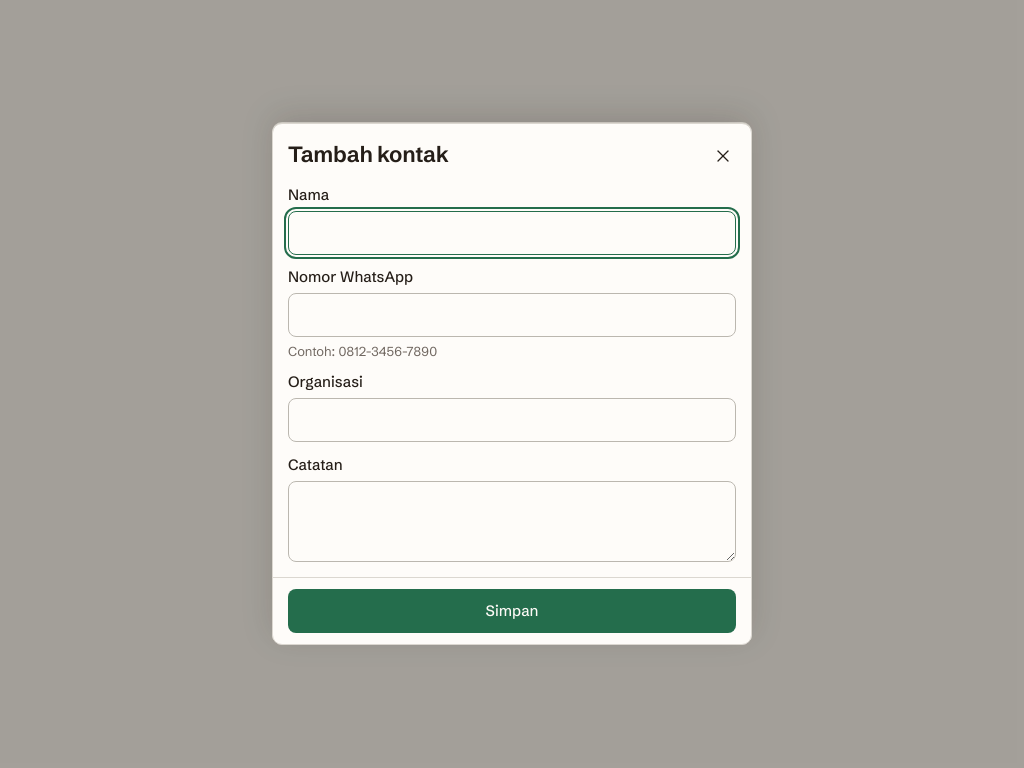
missing nama shows error
Type "081234567890" into the field labelled "Nomor WhatsApp".
click(512, 315); type("081234567890")  # box [288,293,736,337]
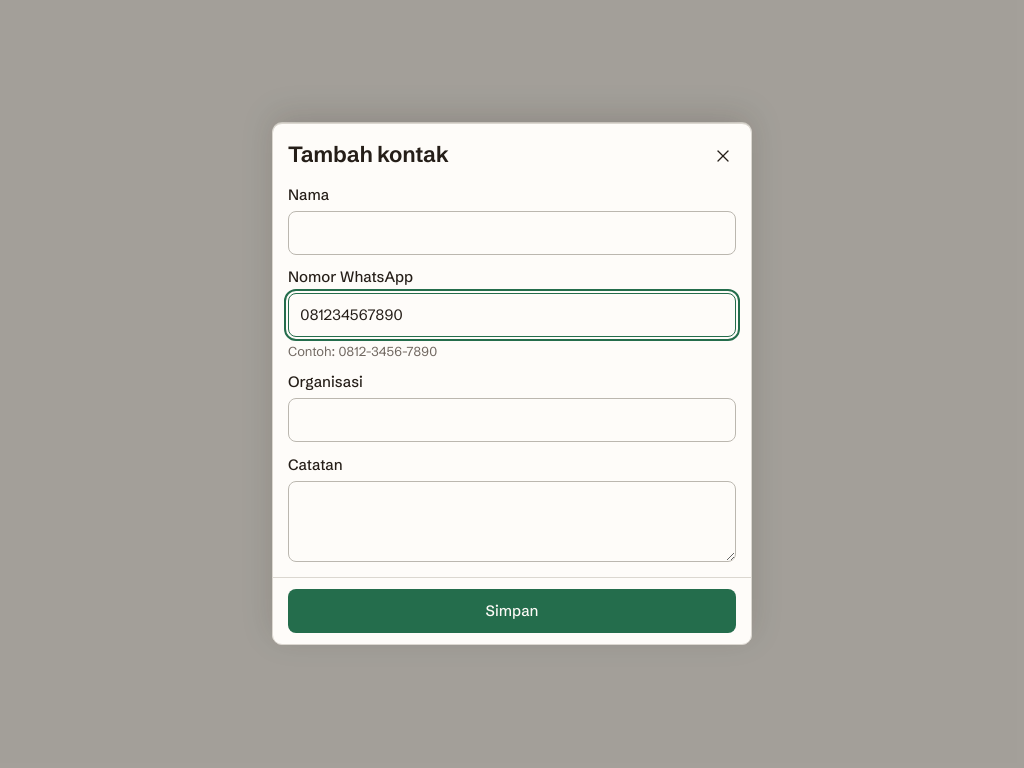
Click the button "Simpan".
click(512, 611)  # box [288,589,736,633]
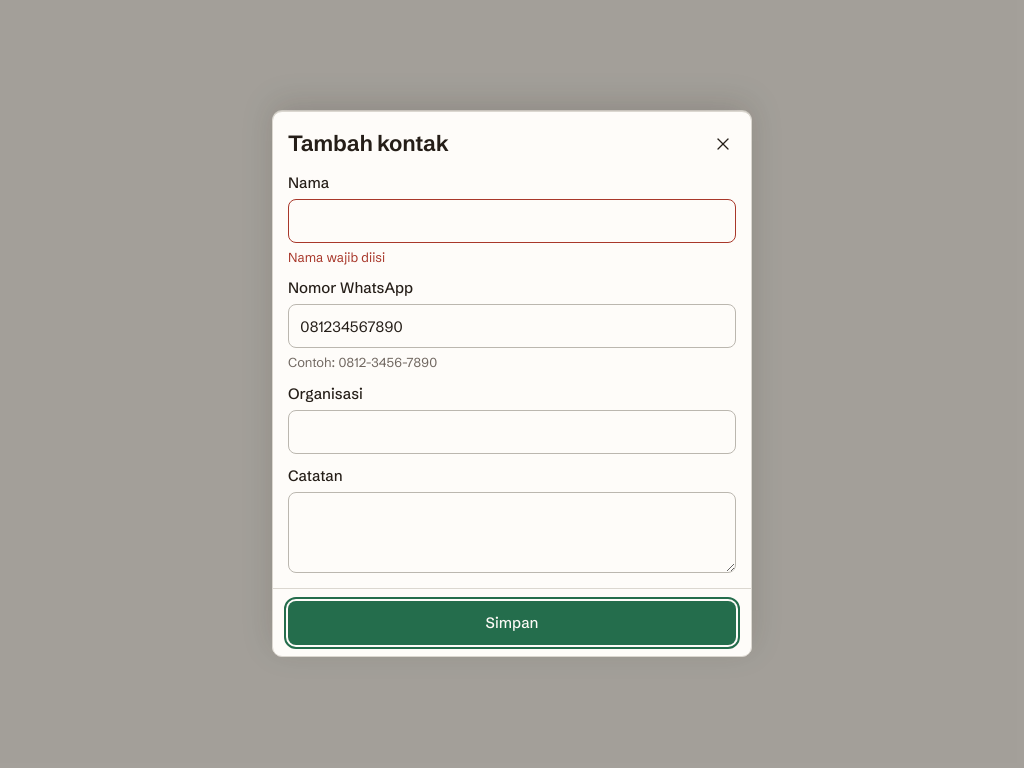
Check: the text "Nama wajib diisi" is shown, box [288,249,385,265]
